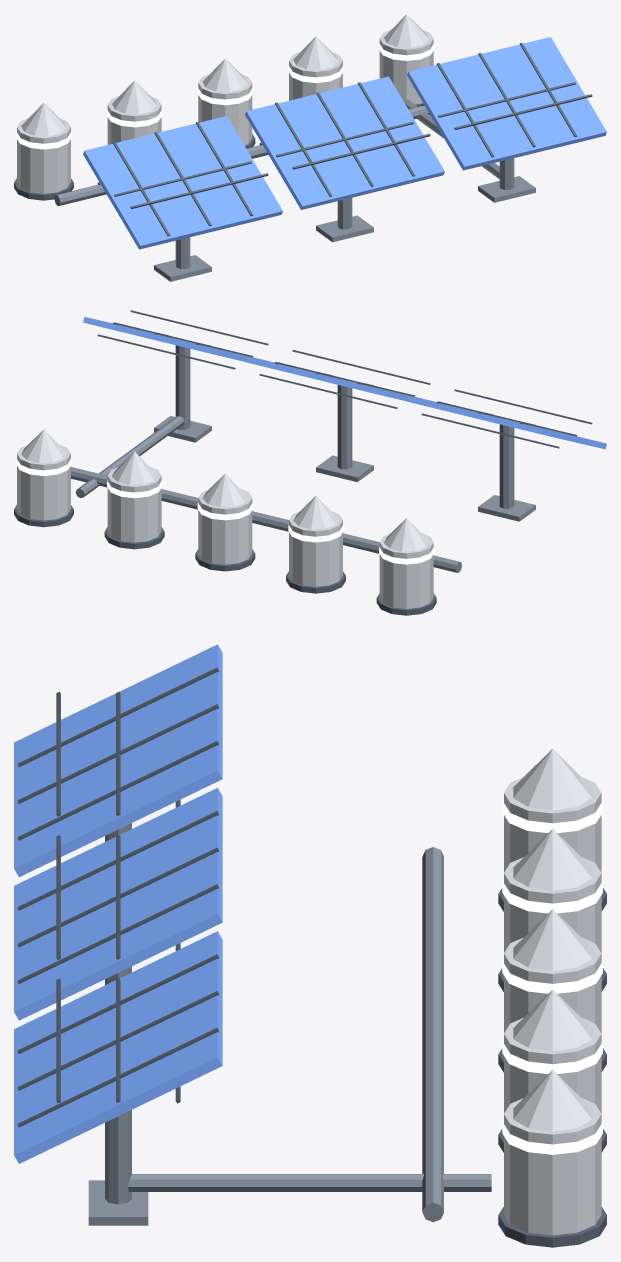
File: power.glb
3 renders of one model, top to bottom at view 1: azimuth 30°, elevation 25°; view 2: azimuth 150°, elevation 25°; view 3: azimuth 270°, elevation 25°, orthographic. The views are drawn at different scales.
Visible parts, largest first — view 1: panel_0, panel_1, panel_2, react_body_0, react_body_4, react_body_2, react_body_1, react_body_3, kilopower_cable_trunk, react_cone_4, react_cone_3, react_cone_2 (+30 smaller); view 2: react_body_3, react_body_0, react_body_2, react_body_4, react_body_1, world, kilopower_cable_trunk, panel_0, pole_1, pole_0, pole_2, panel_1 (+10 smaller); view 3: panel_2, panel_0, panel_1, react_body_4, kilopower_cable_trunk, solar_feed_cable, react_body_2, react_body_0, react_body_1, react_body_3, react_cone_2, react_cone_0 (+20 smaller).
Part boxes in pixels (x1,y1,x2,y2): panel_0: [83, 116, 282, 249]; panel_1: [245, 76, 444, 209]; panel_2: [407, 37, 606, 170]; react_body_0: [17, 118, 70, 193]; react_body_4: [379, 29, 433, 104]; react_body_2: [198, 73, 252, 145]; react_body_1: [107, 96, 161, 144]; react_body_3: [289, 51, 342, 100]; kilopower_cable_trunk: [54, 105, 430, 205]; react_cone_4: [384, 14, 429, 47]; react_cone_3: [293, 36, 338, 69]; react_cone_2: [202, 58, 247, 92]; react_body_3: [107, 466, 161, 542]; react_body_0: [379, 533, 433, 608]; react_body_2: [198, 489, 252, 564]; react_body_4: [17, 444, 70, 520]; react_body_1: [289, 511, 342, 586]; world: [14, 505, 436, 615]; kilopower_cable_trunk: [71, 467, 461, 572]; panel_0: [407, 396, 606, 449]; pole_1: [337, 385, 352, 469]; pole_0: [499, 424, 514, 508]; pole_2: [175, 345, 190, 429]; panel_1: [245, 356, 436, 402]; panel_2: [14, 931, 222, 1163]; panel_0: [14, 644, 222, 877]; panel_1: [14, 788, 222, 1020]; react_body_4: [504, 1098, 601, 1235]; kilopower_cable_trunk: [422, 847, 443, 1222]; solar_feed_cable: [128, 1174, 491, 1191]; react_body_2: [504, 937, 601, 1033]; react_body_0: [504, 777, 601, 872]; react_body_1: [504, 857, 601, 952]; react_body_3: [504, 1018, 601, 1113]; react_cone_2: [513, 909, 592, 970]; react_cone_0: [513, 748, 592, 810].
Bounding box in the file's own units: 3.6 × 0.8768 × 2.18.
